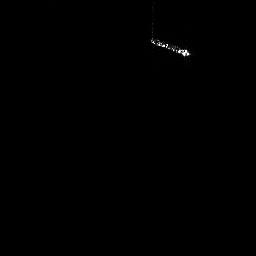ship: (149, 38, 191, 58)
